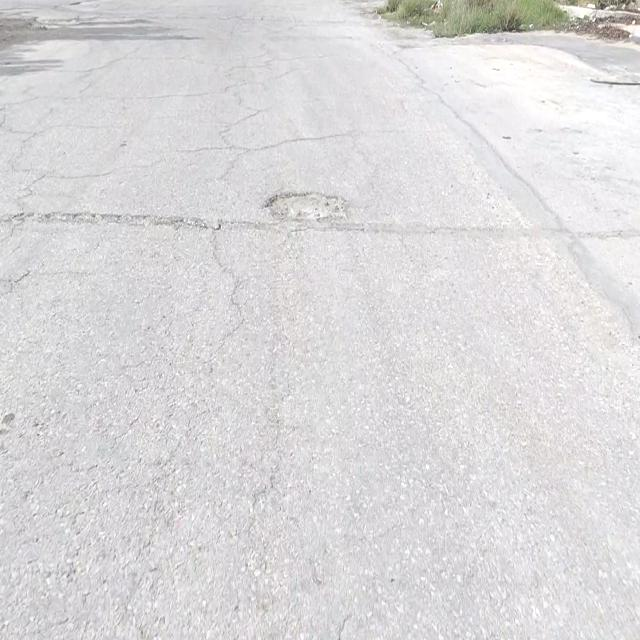Potholes: (264, 191, 349, 220)
